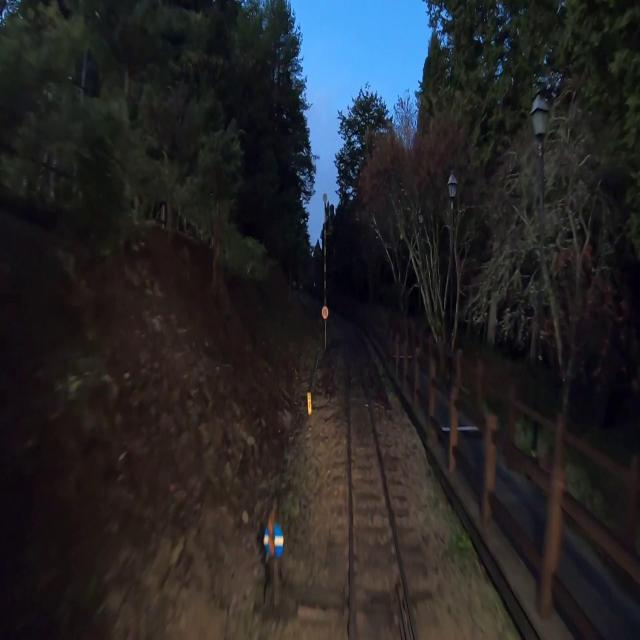rail-track: (330, 320, 414, 639)
